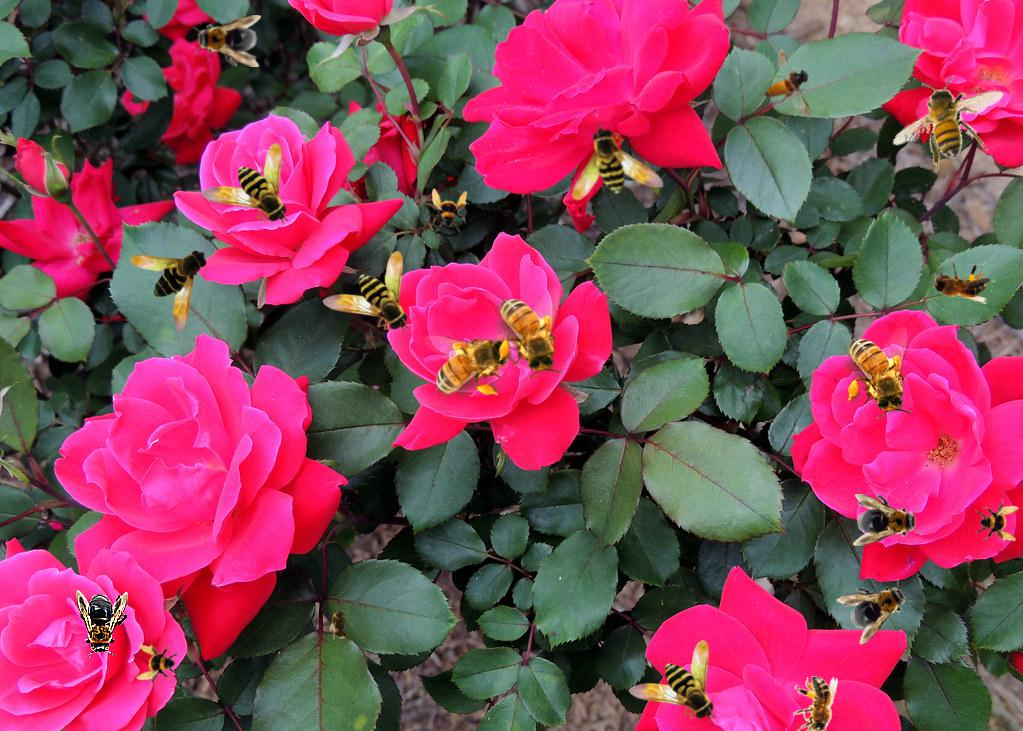Bee: (879, 48, 1023, 194), (562, 120, 678, 232), (628, 640, 716, 722), (201, 143, 289, 225), (322, 251, 410, 333), (129, 247, 211, 335), (834, 566, 920, 646), (423, 331, 516, 399), (844, 326, 912, 419), (495, 286, 563, 379), (763, 47, 813, 118), (76, 590, 128, 658), (193, 15, 261, 67), (853, 494, 921, 546), (924, 259, 990, 304), (793, 676, 838, 731), (136, 643, 180, 687), (975, 499, 1019, 543), (425, 188, 469, 232), (329, 604, 351, 644)
